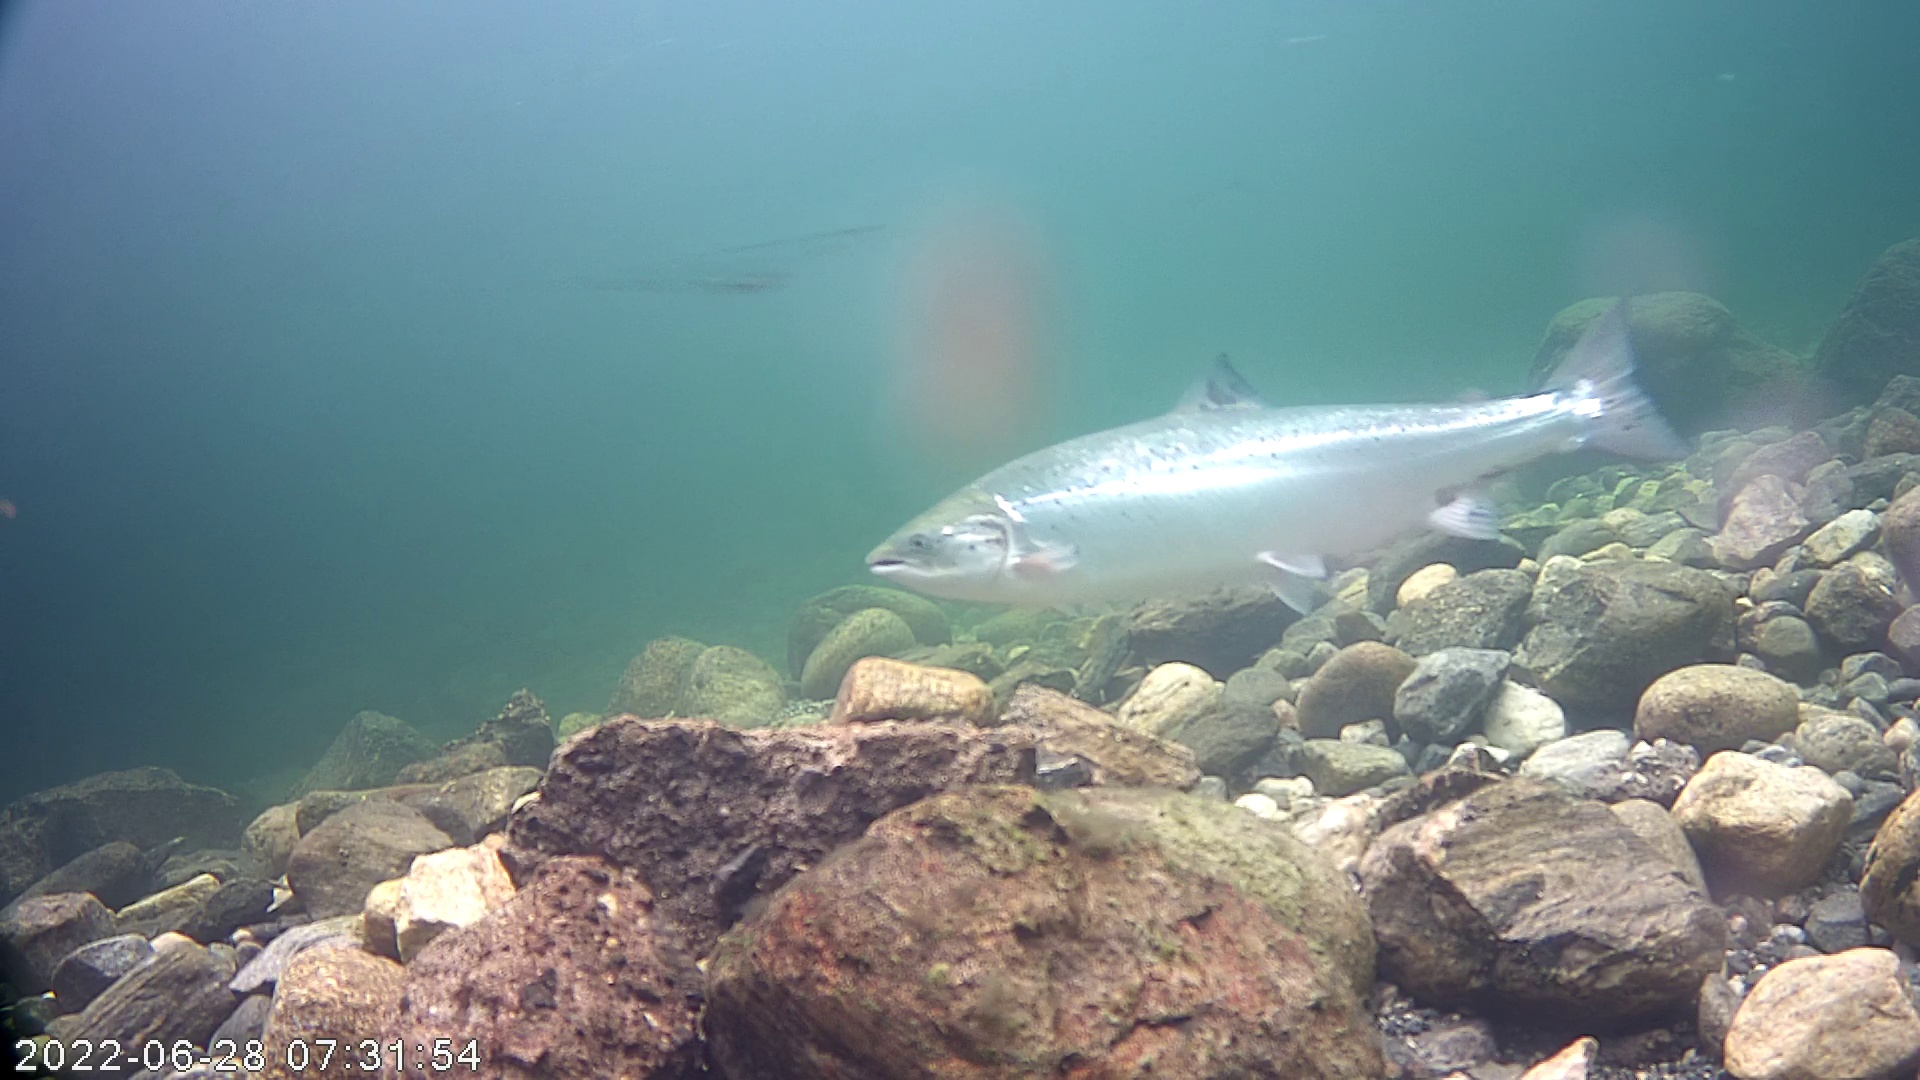salmon: (833, 251, 1724, 674)
